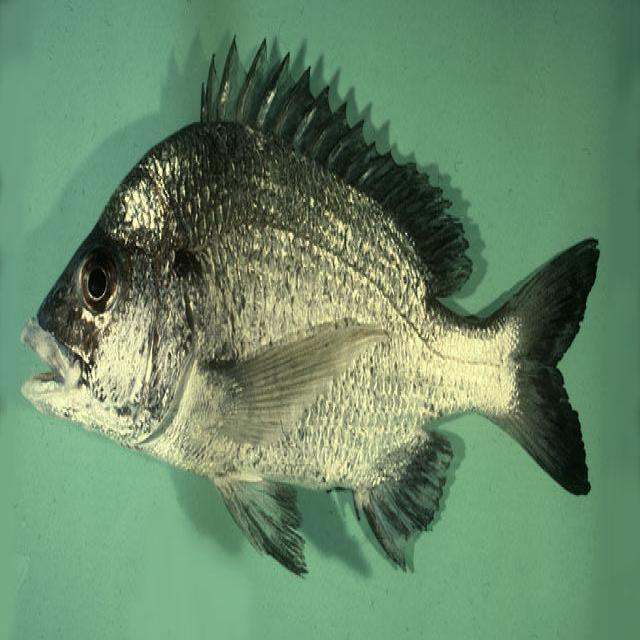ikan: (18, 16, 612, 596)
